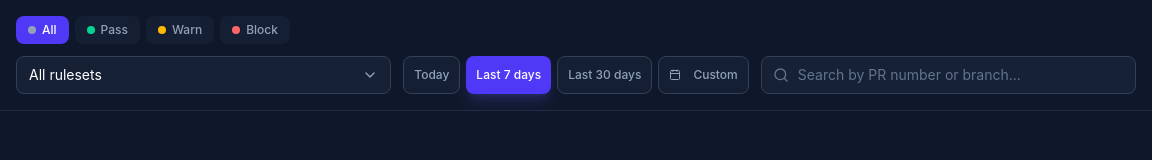
FilterBar › clears search when clear button is clicked
In the field with placeholder "Search by PR number or branch...": (948, 75) 761,56 -> 1136,94, type "test"
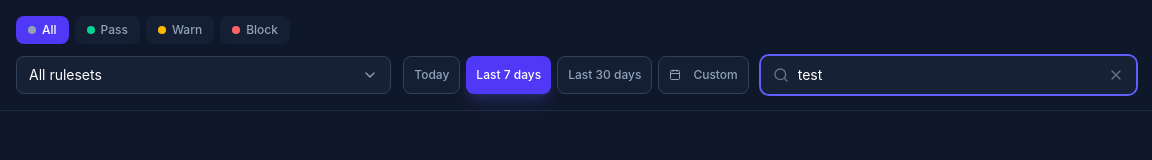
Click the button named "clear search": (1116, 75) 1108,67 -> 1124,83
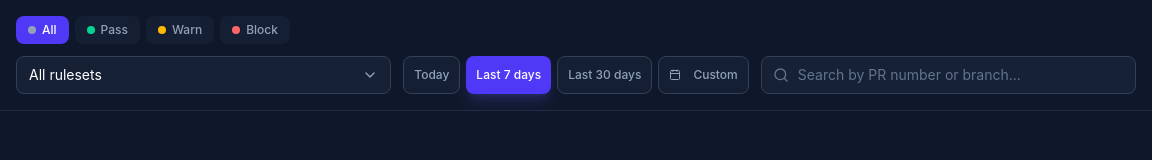
Check: the field with placeholder "Search by PR number or branch..." is empty, box 761,56 -> 1136,94
